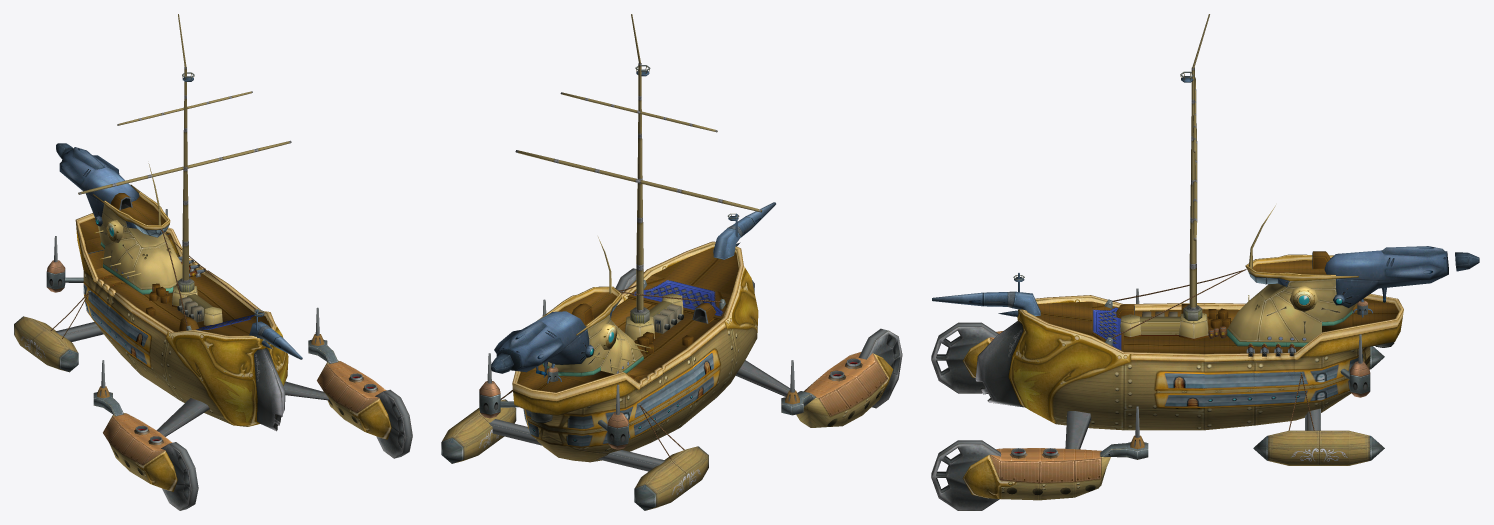
The model's file is ship.FBX.
3 renders of one model, left to right at view 1: azimuth 30°, elevation 25°; view 2: azimuth 150°, elevation 25°; view 3: azimuth 270°, elevation 25°, orthographic. The views are drawn at different scales.
Parts seen in each view (by area): view 1: st02_sc00_g; view 2: st02_sc00_g; view 3: st02_sc00_g.
Boxes of the visible parts, x1=… form: st02_sc00_g: x1=14, y1=14, x2=412, y2=510; st02_sc00_g: x1=441, y1=14, x2=902, y2=510; st02_sc00_g: x1=931, y1=14, x2=1479, y2=510.
Size of the model in its own units: 564 by 907 by 796.
